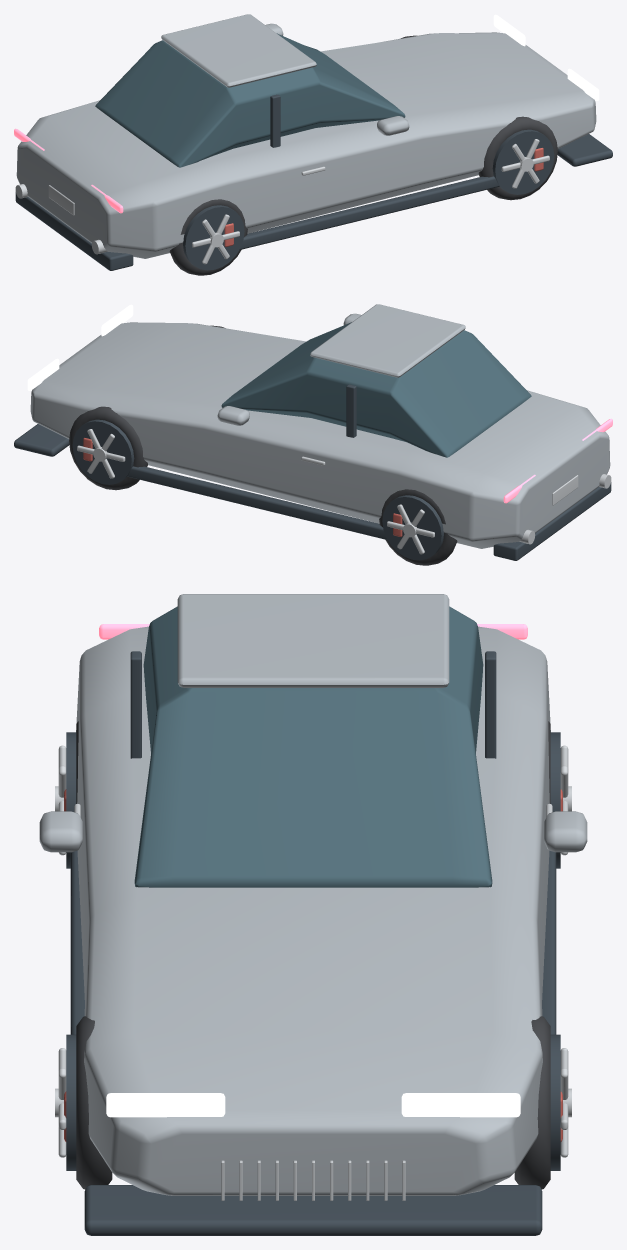
The model's file is SM_lux_coupe.glb.
The picture shows the model from 3 angles, top to bottom: view 1: azimuth 30°, elevation 25°; view 2: azimuth 150°, elevation 25°; view 3: azimuth 270°, elevation 25°; orthographic projection. The views are drawn at different scales.
Parts seen in each view (by area): view 1: SM_lux_coupe; view 2: SM_lux_coupe; view 3: SM_lux_coupe.
Part boxes in pixels (x1=…): SM_lux_coupe: x1=14, y1=14, x2=612, y2=275; SM_lux_coupe: x1=14, y1=304, x2=612, y2=565; SM_lux_coupe: x1=39, y1=594, x2=587, y2=1235.
Size of the model in its own units: 4.48 by 1.39 by 2.1.
